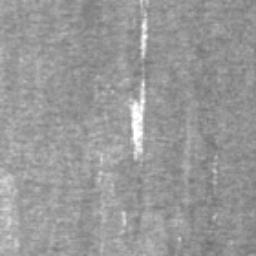White rust: (127, 81, 147, 163), (138, 10, 149, 61), (212, 151, 218, 185), (121, 211, 127, 230)
